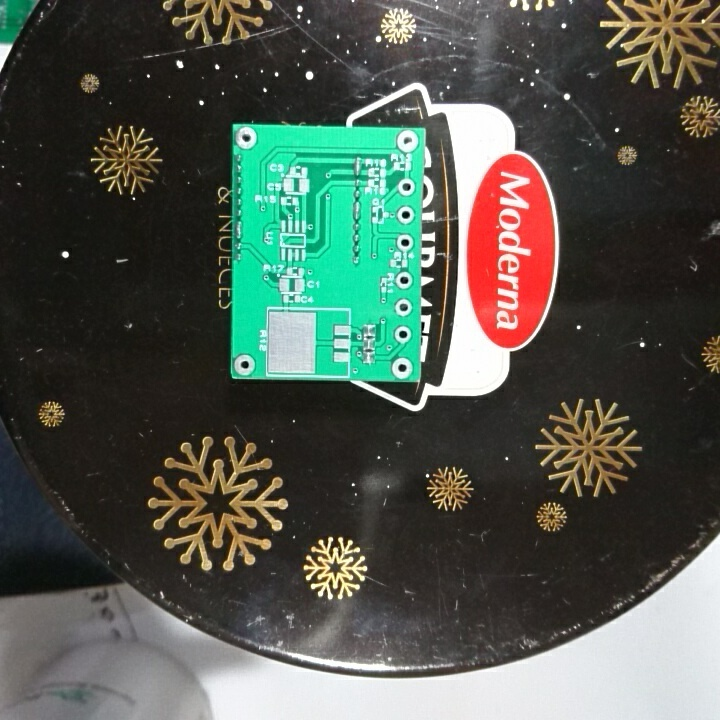F: (394, 128, 422, 155), (234, 125, 260, 152), (232, 352, 259, 378), (390, 355, 414, 380), (394, 203, 417, 226), (396, 175, 418, 199), (393, 269, 416, 291), (392, 323, 414, 346), (393, 296, 414, 320), (394, 231, 416, 252)
P: (233, 218, 245, 241), (353, 154, 364, 178), (351, 199, 363, 220)
